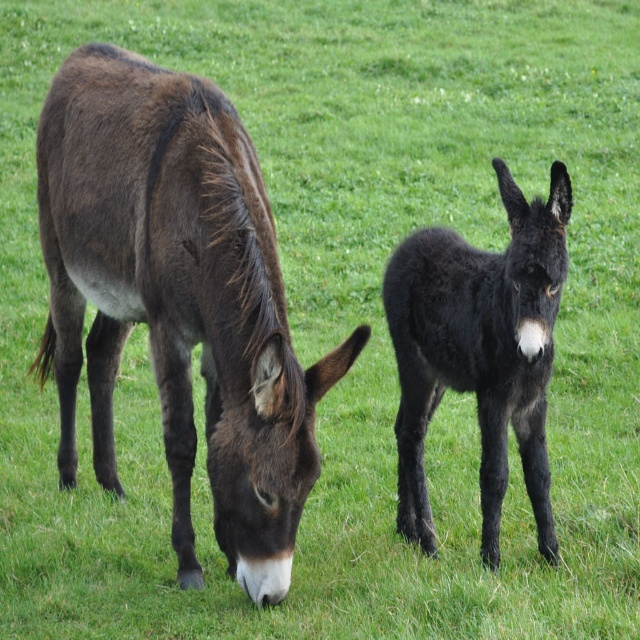Mule: (26, 38, 370, 609), (383, 159, 572, 575)
